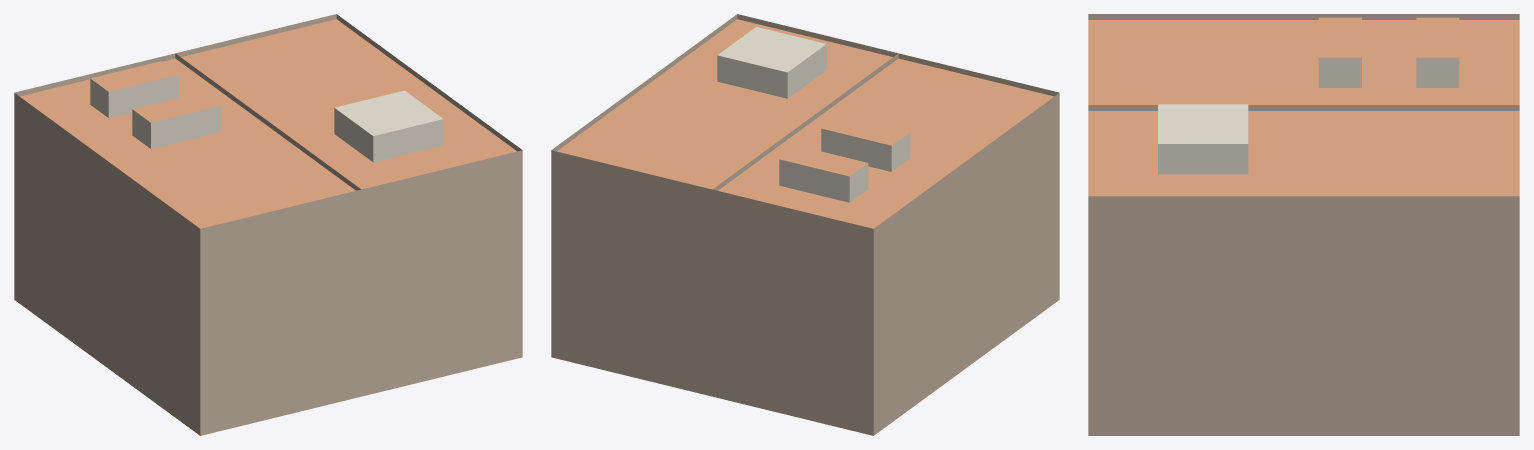
3 views of the same model, side by side, from view 1: azimuth 30°, elevation 25°; view 2: azimuth 150°, elevation 25°; view 3: azimuth 270°, elevation 25° (orthographic). The views are drawn at different scales.
Parts seen in each view (by area): view 1: Object_2, Object_6, Object_10, Object_1, Object_8, Object_9, Object_5, Object_4, Object_7, Object_3; view 2: Object_2, Object_6, Object_10, Object_1, Object_9, Object_8, Object_5, Object_4, Object_7, Object_3; view 3: Object_2, Object_6, Object_10, Object_1, Object_7, Object_5, Object_4, Object_9, Object_8, Object_3.
Part boxes in pixels (box(x1,y1,x2,y2)): Object_2: box(14, 14, 522, 435); Object_6: box(20, 19, 516, 228); Object_10: box(334, 90, 443, 162); Object_1: box(15, 14, 522, 233); Object_8: box(132, 105, 221, 148); Object_9: box(90, 75, 179, 117); Object_5: box(132, 92, 220, 122); Object_4: box(90, 61, 178, 91); Object_7: box(175, 53, 360, 190); Object_3: box(175, 54, 360, 190); Object_2: box(551, 14, 1059, 435); Object_6: box(557, 19, 1053, 228); Object_10: box(717, 27, 826, 98); Object_1: box(551, 14, 1059, 232); Object_9: box(779, 159, 868, 202); Object_8: box(821, 128, 910, 171); Object_5: box(821, 115, 909, 145); Object_4: box(780, 146, 867, 176); Object_7: box(713, 54, 898, 190); Object_3: box(714, 53, 898, 189); Object_2: box(1088, 14, 1519, 435); Object_6: box(1088, 20, 1519, 196); Object_10: box(1158, 104, 1248, 174); Object_1: box(1088, 14, 1519, 201); Object_7: box(1088, 105, 1519, 110); Object_5: box(1318, 17, 1361, 57); Object_4: box(1416, 17, 1459, 57); Object_9: box(1416, 57, 1459, 87); Object_8: box(1318, 57, 1361, 87); Object_3: box(1088, 105, 1519, 110).
Size of the model in its own units: 1283 by 1283 by 868.
